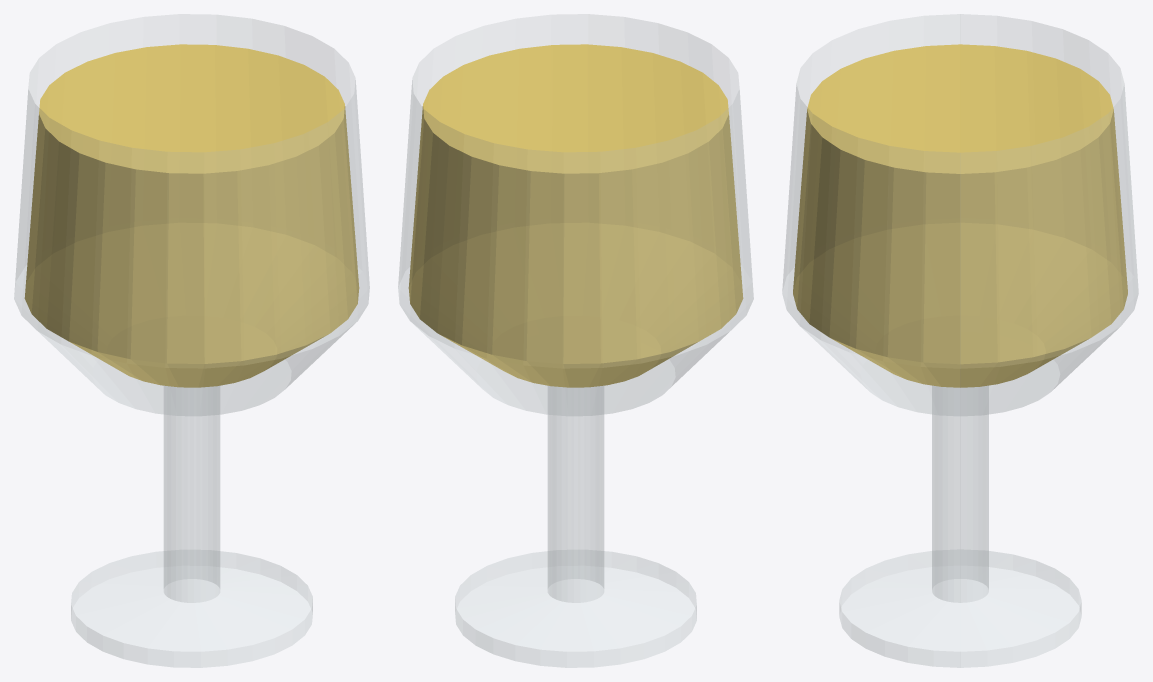
The model's file is glass_goblet.glb.
3 renders of one model, left to right at view 1: azimuth 30°, elevation 25°; view 2: azimuth 150°, elevation 25°; view 3: azimuth 270°, elevation 25°, orthographic.
Parts seen in each view (by area): view 1: LIQUID_SHAPE, GlassBody, Foot, Stem; view 2: LIQUID_SHAPE, GlassBody, Foot, Stem; view 3: LIQUID_SHAPE, GlassBody, Foot, Stem.
Part boxes in pixels (x1,y1,x2,y2): LIQUID_SHAPE: [24, 44, 359, 387]; GlassBody: [14, 14, 369, 415]; Foot: [71, 550, 312, 667]; Stem: [164, 386, 219, 602]; LIQUID_SHAPE: [408, 44, 743, 387]; GlassBody: [398, 14, 753, 415]; Foot: [455, 550, 696, 667]; Stem: [548, 386, 603, 602]; LIQUID_SHAPE: [793, 44, 1127, 387]; GlassBody: [782, 14, 1138, 416]; Foot: [839, 549, 1081, 667]; Stem: [932, 386, 988, 602].
Bounding box in the file's own units: 0.1 × 0.165 × 0.1.
